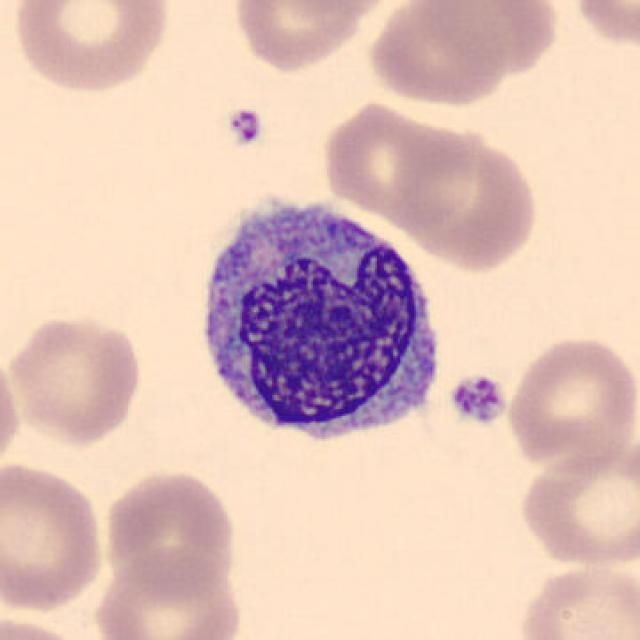Lymphocyte: (185, 187, 453, 460)
Platelets: (446, 371, 510, 428), (224, 104, 267, 150)
RBC: (398, 123, 542, 275), (318, 97, 476, 226), (4, 310, 146, 448), (502, 332, 638, 472), (100, 466, 240, 600), (363, 0, 521, 109), (0, 458, 108, 615), (514, 434, 638, 570), (7, 0, 174, 97), (90, 546, 247, 640), (418, 0, 564, 78), (229, 0, 379, 74), (514, 559, 638, 640), (563, 0, 640, 54), (0, 337, 25, 478), (0, 610, 98, 640), (272, 0, 407, 18)
